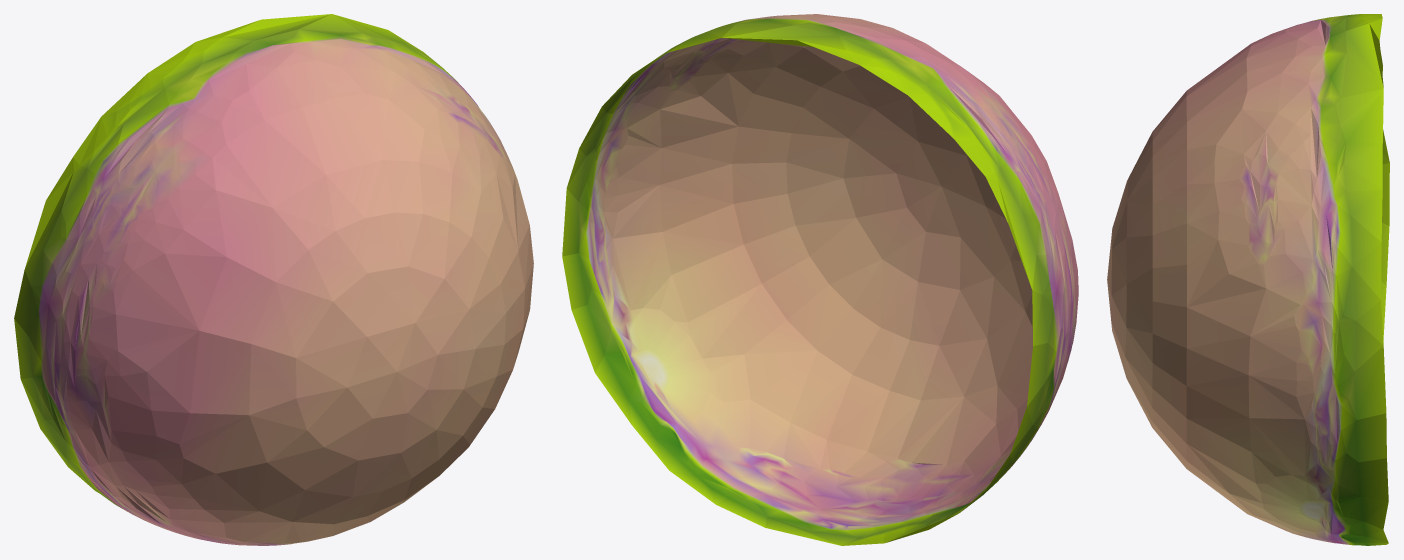
File: Evening Plains (Example Sky).fbx
3 views of the same model, side by side, from view 1: azimuth 30°, elevation 25°; view 2: azimuth 150°, elevation 25°; view 3: azimuth 270°, elevation 25° (orthographic). The views are drawn at different scales.
Parts seen in each view (by area): view 1: Evening Plains (Example Sky).fbx; view 2: Evening Plains (Example Sky).fbx; view 3: Evening Plains (Example Sky).fbx.
Boxes of the visible parts, <box> form: Evening Plains (Example Sky).fbx: <box>14,14,533,545</box>; Evening Plains (Example Sky).fbx: <box>562,14,1078,545</box>; Evening Plains (Example Sky).fbx: <box>1107,14,1389,545</box>.
Bounding box in the file's own units: 199 × 200 × 106.
